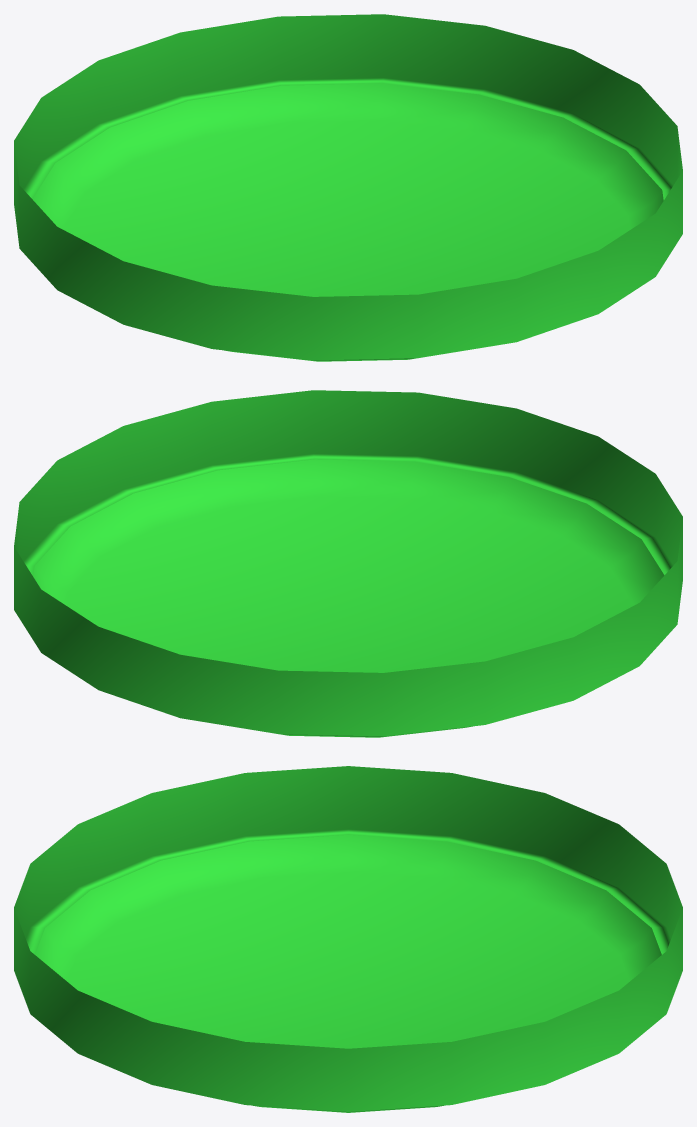
Rendered from CeilingLight02_mesh.fbx.
The picture shows the model from 3 angles, top to bottom: view 1: azimuth 30°, elevation 25°; view 2: azimuth 150°, elevation 25°; view 3: azimuth 270°, elevation 25°; orthographic projection.
Visible parts, largest first — view 1: CeilingLight02_mesh; view 2: CeilingLight02_mesh; view 3: CeilingLight02_mesh.
Boxes of the visible parts, x1,y1,x2,y2 form: CeilingLight02_mesh: (14, 14, 682, 361); CeilingLight02_mesh: (14, 390, 682, 737); CeilingLight02_mesh: (14, 766, 682, 1112).
Size of the model in its own units: 153 by 21.53 by 153.
